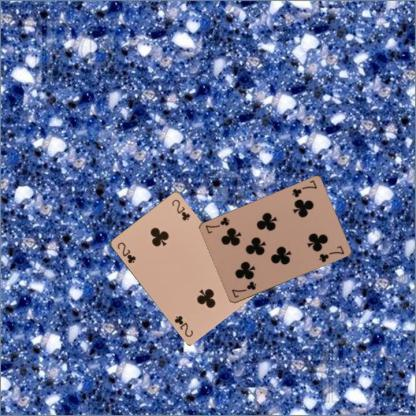2c: (114, 240, 137, 264)
7c: (289, 178, 318, 199), (229, 279, 257, 299)
